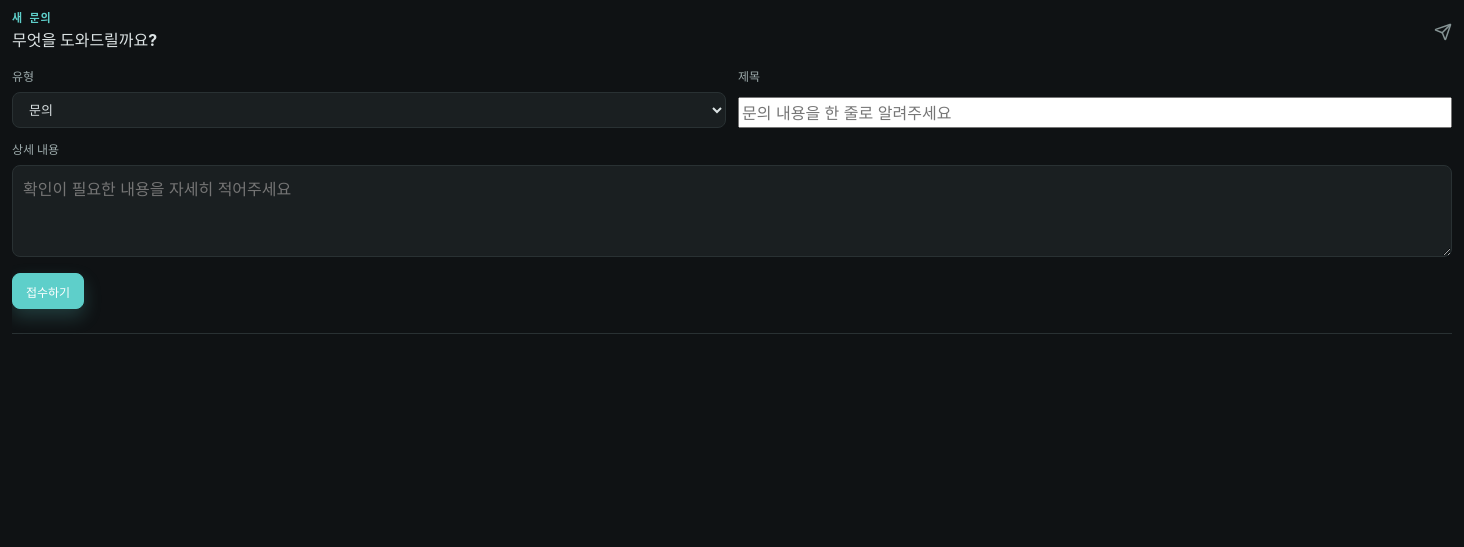
Test case: customer inquiry UI › keeps the inquiry form usable after failure without showing a retry button
Type "문의" into the field named "문의 제목".
click(1095, 112); type("문의")  # box x1=738 y1=97 x2=1452 y2=128
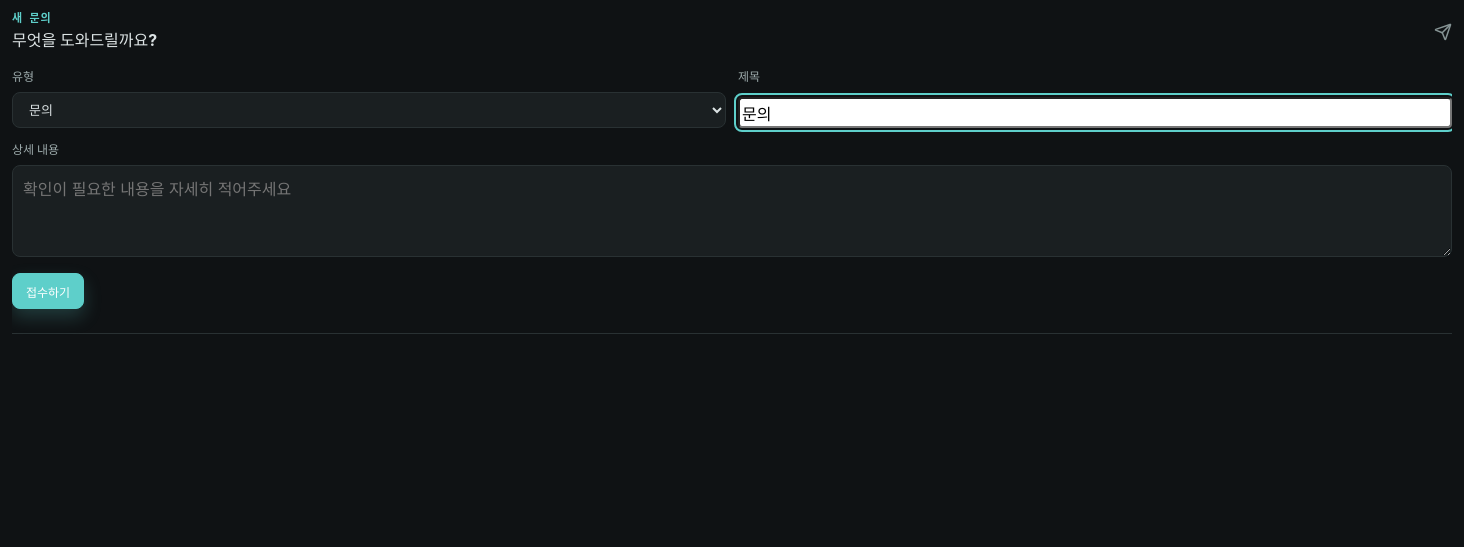
Type "내용" into the text box named "문의 내용".
click(732, 211); type("내용")  # box x1=12 y1=165 x2=1452 y2=257
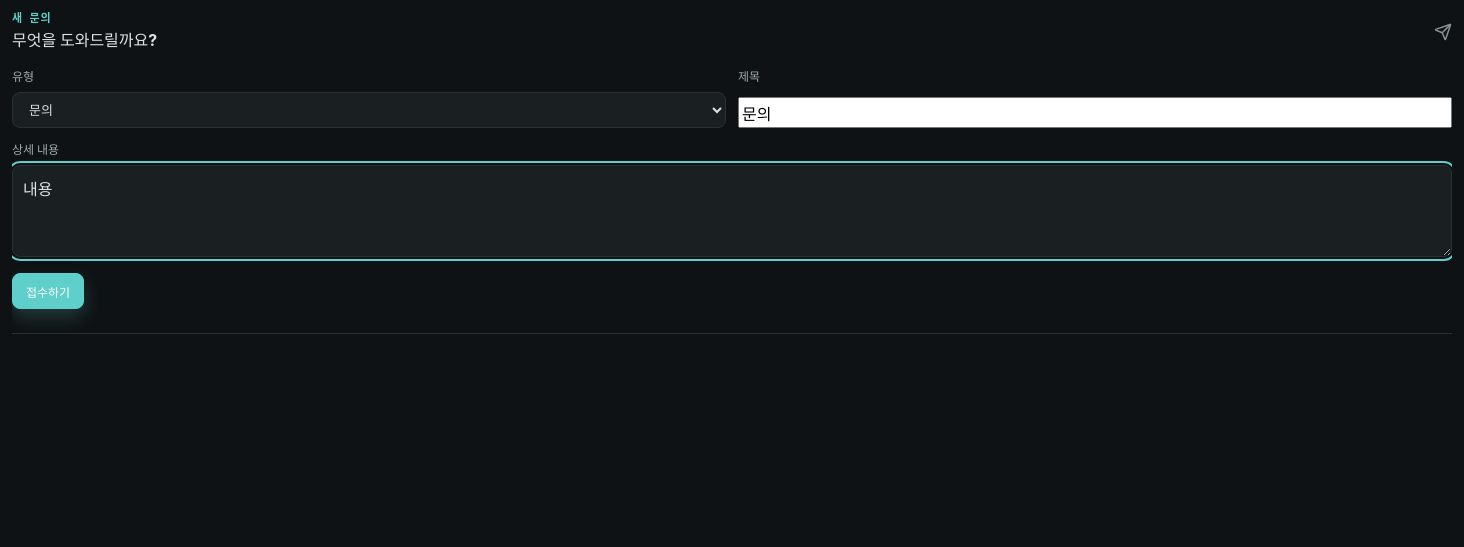
Click the button "접수하기".
click(48, 291)  # box x1=12 y1=273 x2=84 y2=309
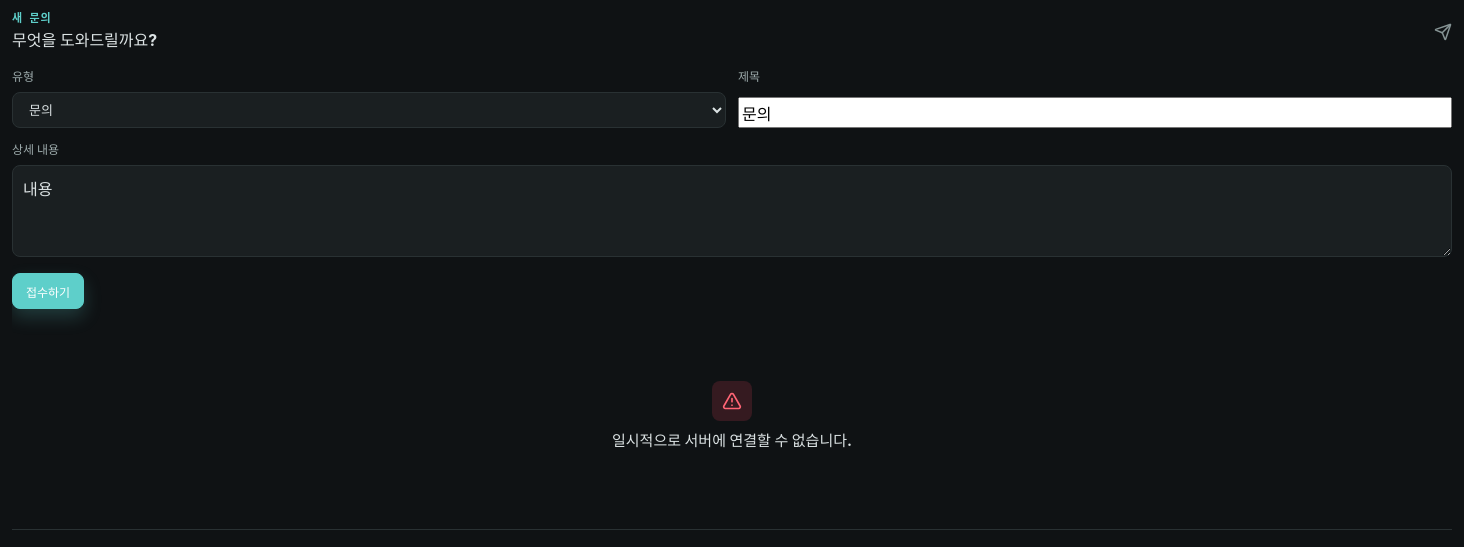
Now the text "일시적으로 서버에 연결할 수 없습니다." is shown, box x1=612 y1=428 x2=852 y2=450
Click the button "접수하기".
click(48, 291)  # box x1=12 y1=273 x2=84 y2=309
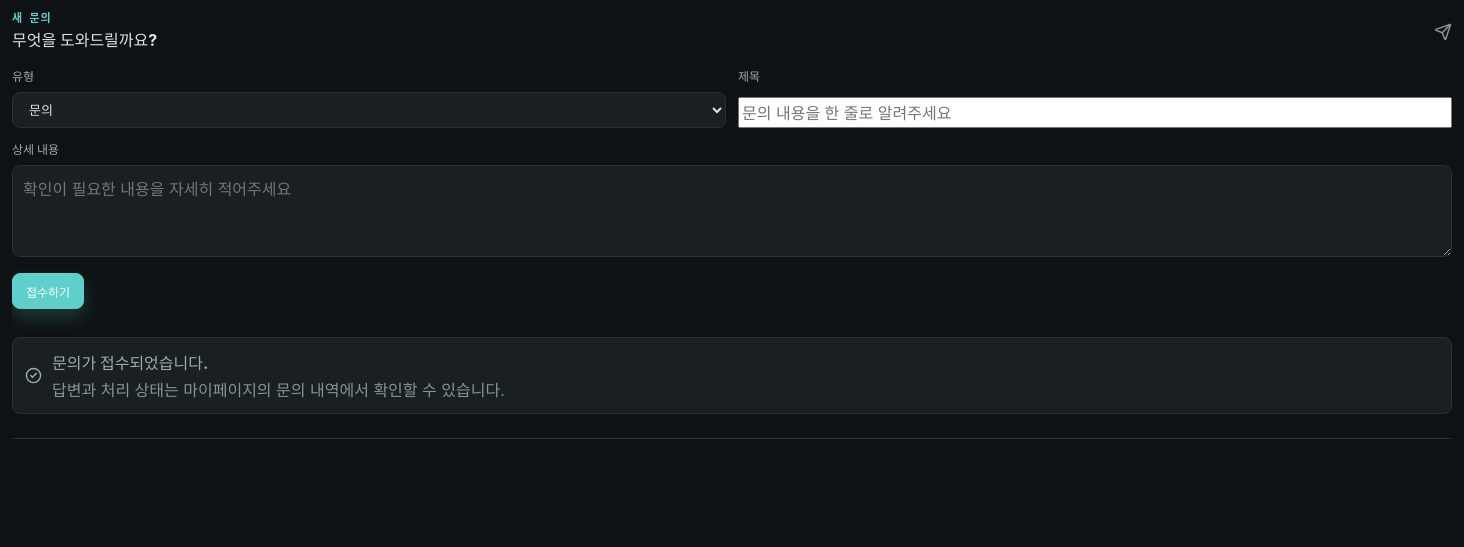
Now the text "문의가 접수되었습니다." is shown, box x1=52 y1=353 x2=208 y2=373
